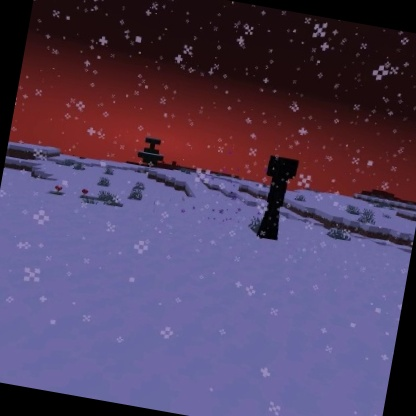enderman: (252, 153, 302, 245)
